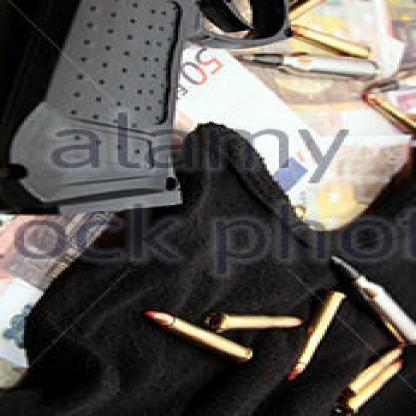gun: (0, 0, 414, 221)
